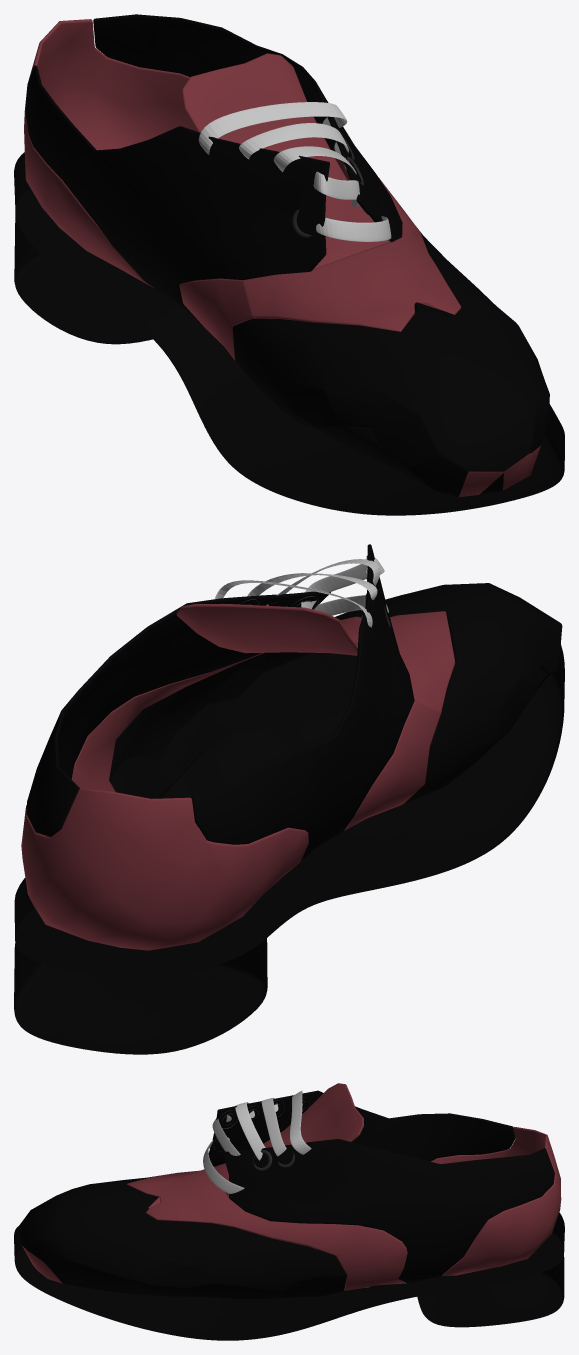
Rendered from za2ot3izquierda.fbx.
3 views of the same model, one above another, from view 1: azimuth 30°, elevation 25°; view 2: azimuth 150°, elevation 25°; view 3: azimuth 270°, elevation 25° (orthographic). The views are drawn at different scales.
Parts seen in each view (by area): view 1: zapato2, Plane, Plane.004, Plane.003, Plane.005, Plane.002, Plane.001; view 2: zapato2, Plane, Plane.002, Plane.003, Plane.005, Plane.004; view 3: zapato2, Plane, Plane.001, Plane.003, Plane.004, Plane.005, Plane.002.
Boxes of the visible parts, box(x1,y1,x2,y2) form: zapato2: box(24, 14, 549, 497); Plane: box(14, 152, 564, 515); Plane.004: box(198, 102, 347, 154); Plane.003: box(239, 123, 348, 159); Plane.005: box(316, 216, 391, 241); Plane.002: box(313, 171, 359, 207); Plane.001: box(273, 146, 356, 174); zapato2: box(21, 544, 562, 950); Plane: box(14, 644, 564, 1054); Plane.002: box(301, 558, 384, 608); Plane.003: box(247, 573, 377, 610); Plane.005: box(314, 595, 388, 615); Plane.004: box(215, 580, 372, 627); zapato2: box(18, 1083, 561, 1298); Plane: box(14, 1212, 564, 1340); Plane.001: box(235, 1102, 265, 1160); Plane.003: box(261, 1098, 286, 1156); Plane.004: box(290, 1091, 311, 1154); Plane.005: box(203, 1137, 244, 1193); Plane.002: box(212, 1115, 240, 1155).
Size of the model in its own units: 169 by 176 by 447.
